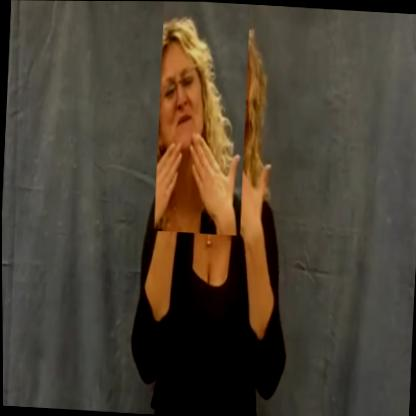ThankYou: (152, 1, 251, 234)
